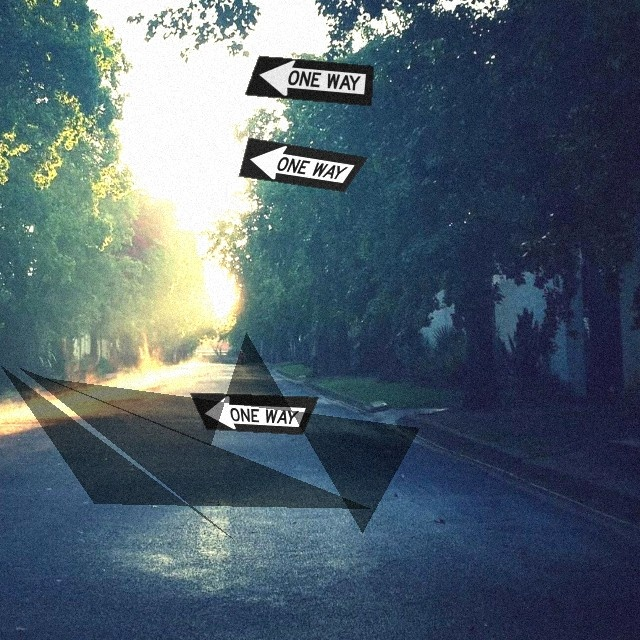ONE_WAY_ left: (238, 137, 368, 192), (244, 55, 374, 106), (189, 392, 319, 435)
